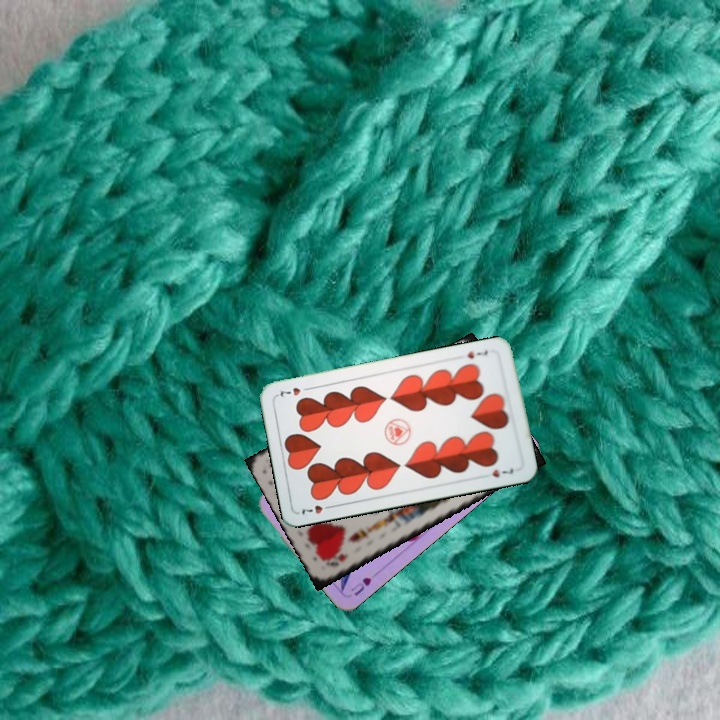H7: (296, 501, 337, 517), (463, 345, 491, 361)
HK: (322, 549, 350, 569)
HU: (346, 573, 374, 598)
